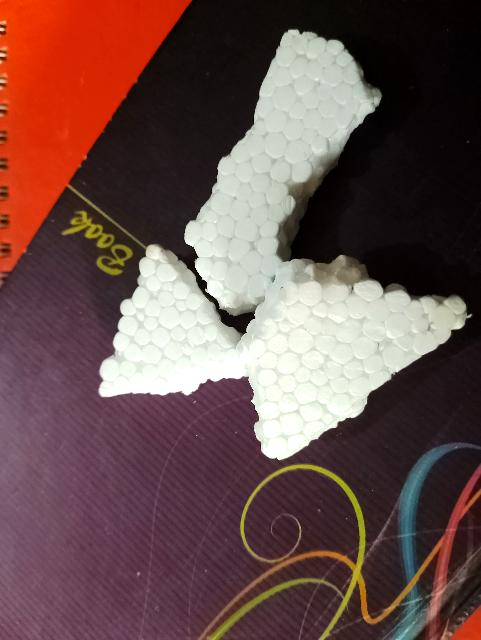cocksheet: (218, 269, 471, 449), (213, 37, 346, 294), (85, 249, 231, 386)
